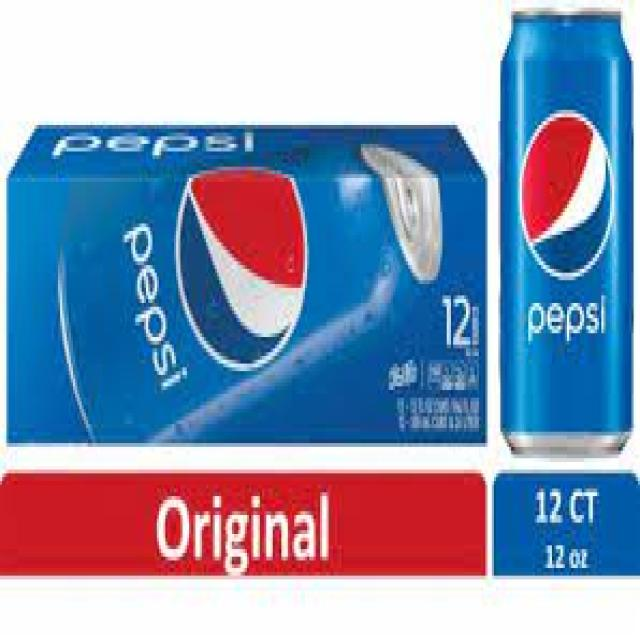Cans: (492, 4, 640, 458)
